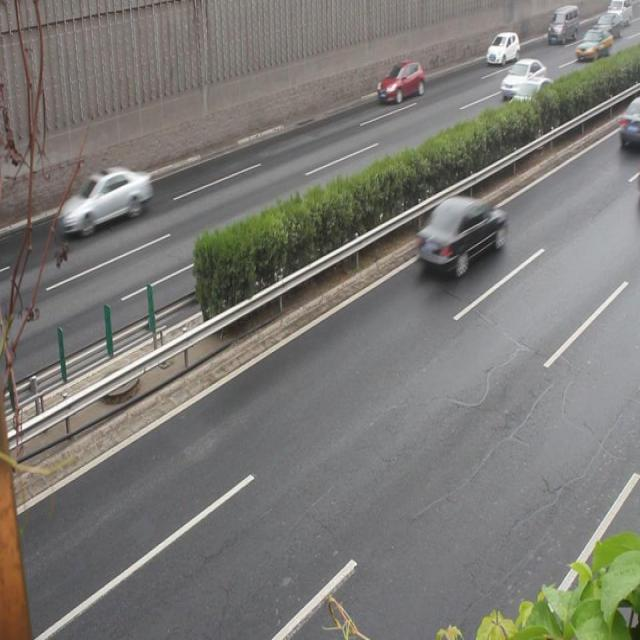car: (415, 195, 503, 278), (56, 168, 153, 235), (506, 78, 556, 124), (378, 62, 425, 104), (499, 58, 545, 100), (485, 30, 518, 68)
